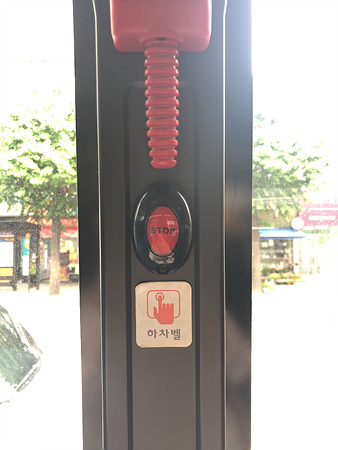bell: (133, 183, 194, 274)
